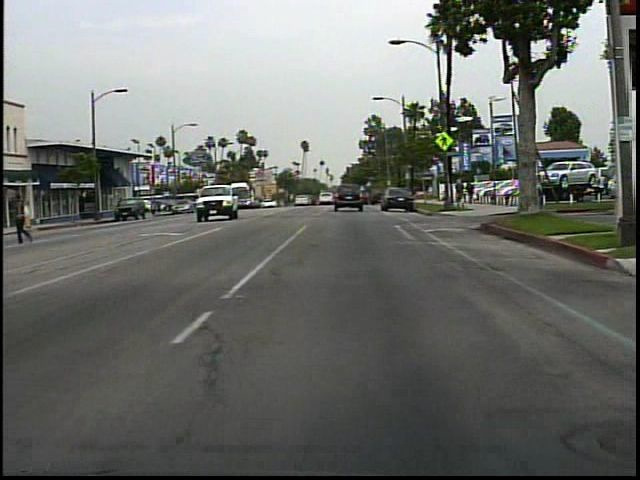person: (17, 193, 42, 245), (527, 177, 549, 217)
